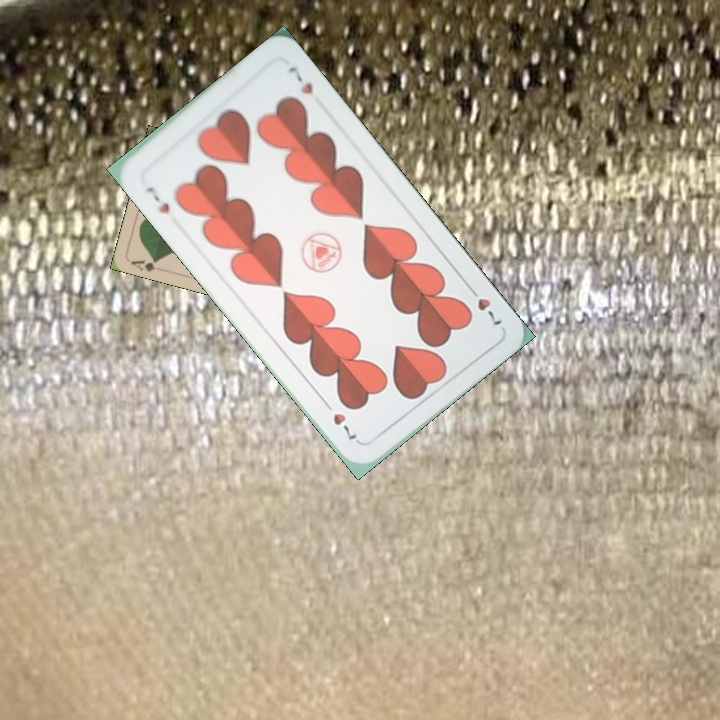GA: (127, 255, 161, 275)
H7: (463, 280, 506, 328), (142, 181, 173, 216)
